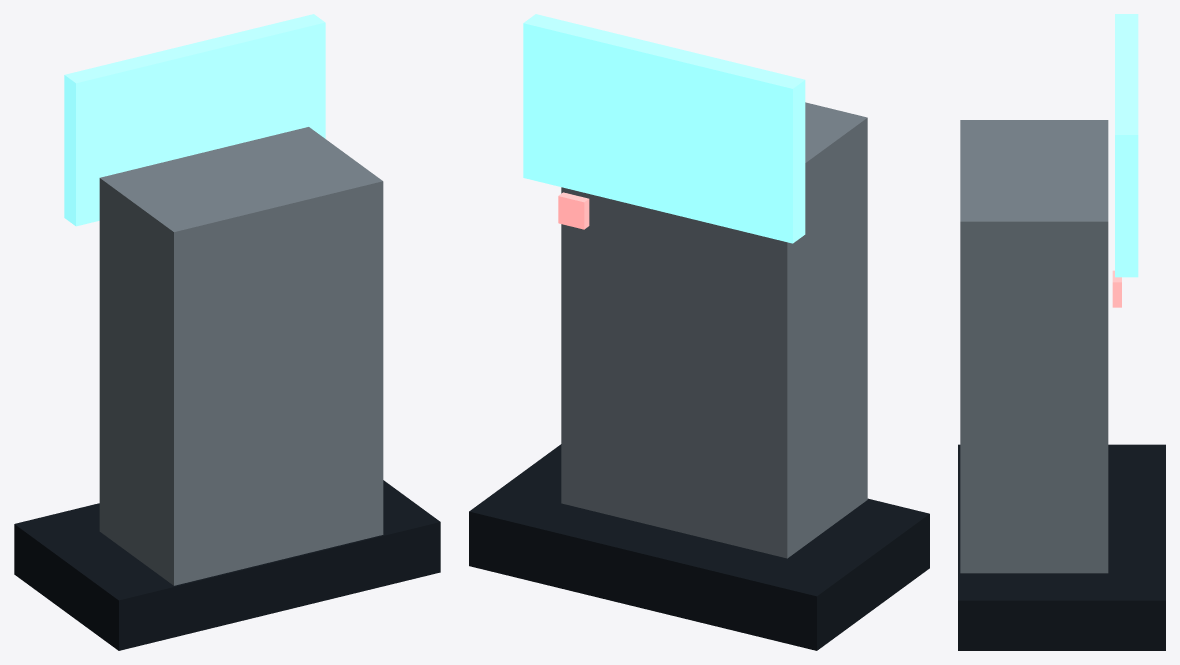
Rendered from np_z03_synthese_console.glb.
The picture shows the model from 3 angles, left to right: view 1: azimuth 30°, elevation 25°; view 2: azimuth 150°, elevation 25°; view 3: azimuth 270°, elevation 25°; orthographic projection. The views are drawn at different scales.
Visible parts, largest first — view 1: Colonne, Ecran, Socle; view 2: Colonne, Ecran, Socle, VoyantAlerte; view 3: Colonne, Socle, Ecran, VoyantAlerte.
Part boxes in pixels (left/top/right/bottom): Colonne: left=99, top=127, right=383, bottom=585; Ecran: left=64, top=14, right=325, bottom=226; Socle: left=14, top=480, right=440, bottom=650; Colonne: left=561, top=102, right=867, bottom=558; Ecran: left=523, top=14, right=805, bottom=243; Socle: left=469, top=444, right=929, bottom=650; VoyantAlerte: left=558, top=192, right=589, bottom=229; Colonne: left=960, top=120, right=1108, bottom=573; Socle: left=958, top=444, right=1165, bottom=650; Ecran: left=1115, top=14, right=1138, bottom=277; VoyantAlerte: left=1112, top=270, right=1121, bottom=307.
Bounding box in the file's own units: 0.8 × 1.19 × 0.45.
